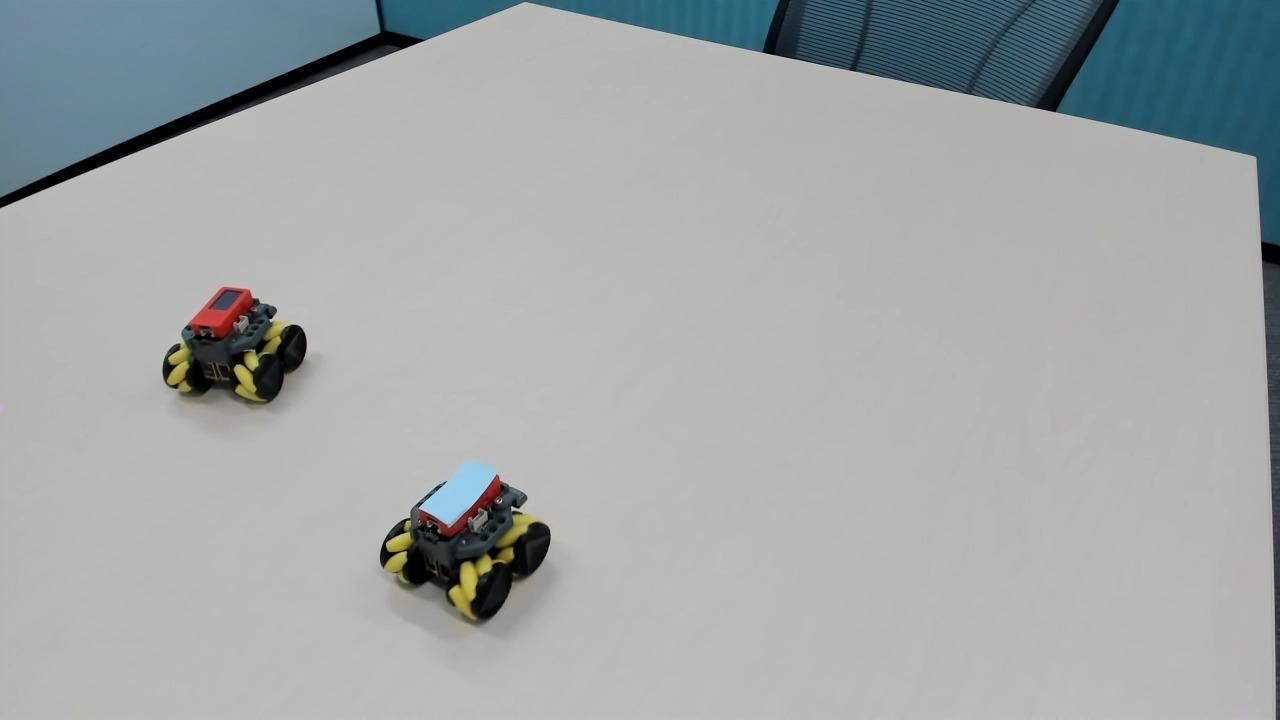B-Robot: (366, 454, 565, 629)
R-Robot: (151, 268, 314, 416)
